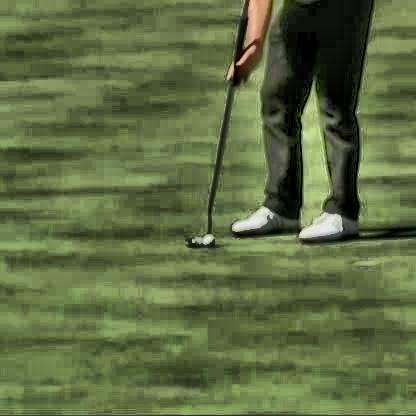golfball: (200, 230, 213, 243)
